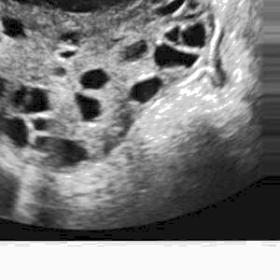PCOS: (77, 88, 99, 121), (18, 90, 50, 111), (0, 17, 30, 39), (57, 138, 80, 164), (159, 47, 192, 65), (7, 118, 24, 148), (84, 68, 108, 88), (132, 85, 158, 101), (186, 28, 209, 45), (126, 45, 144, 60), (63, 28, 79, 42), (33, 118, 51, 130), (185, 10, 201, 22), (167, 31, 182, 43), (187, 0, 205, 9), (39, 135, 50, 149), (61, 52, 78, 59), (54, 68, 62, 79)
